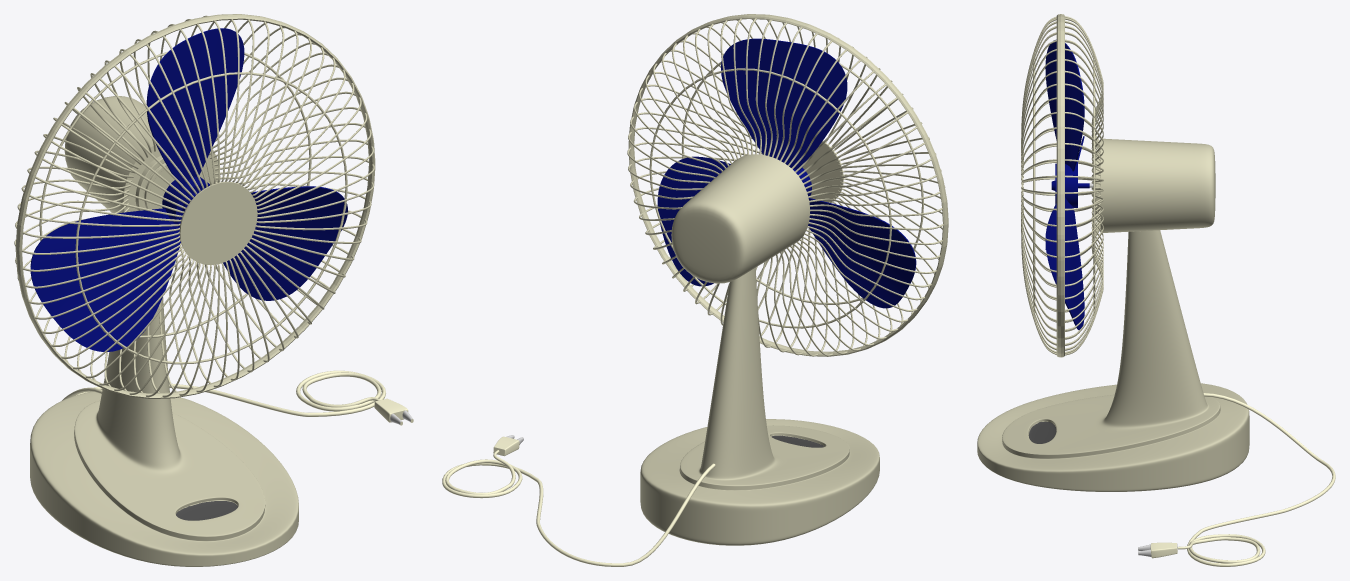
Rendered from table_fan.glb.
3 views of the same model, side by side, from view 1: azimuth 30°, elevation 25°; view 2: azimuth 150°, elevation 25°; view 3: azimuth 270°, elevation 25° (orthographic). The views are drawn at different scales.
Visible parts, largest first — view 1: Base, Blade 2, Blade 1, Blade 3, Rim, Motor, Front Cover, Wire, Front Support, Back Support, Back Cover, Base.001 (+2 smaller); view 2: Base, Motor, Blade 1, Blade 2, Rim, Blade 3, Wire, Back Support, Front Cover, Front Support; view 3: Base, Motor, Rim, Wire, Blade 1, Blade 3, Blade Support_Blades_0, Front Support, Back Support, Base.001.
Boxes of the visible parts, left/top/right/bottom form: Base: left=30, top=297, right=298, bottom=566; Blade 2: left=30, top=208, right=180, bottom=351; Blade 1: left=146, top=28, right=244, bottom=188; Blade 3: left=223, top=186, right=347, bottom=300; Rim: left=15, top=14, right=375, bottom=398; Motor: left=64, top=96, right=220, bottom=213; Front Cover: left=179, top=181, right=257, bottom=265; Wire: left=62, top=370, right=385, bottom=416; Front Support: left=75, top=72, right=347, bottom=364; Back Support: left=39, top=52, right=311, bottom=337; Back Cover: left=135, top=155, right=209, bottom=210; Base.001: left=176, top=501, right=237, bottom=520; Base: left=640, top=268, right=879, bottom=545; Motor: left=671, top=154, right=810, bottom=283; Blade 1: left=721, top=38, right=847, bottom=170; Blade 2: left=808, top=198, right=916, bottom=308; Rim: left=628, top=14, right=948, bottom=356; Blade 3: left=657, top=156, right=730, bottom=286; Wire: left=442, top=450, right=715, bottom=566; Back Support: left=649, top=68, right=891, bottom=328; Front Cover: left=802, top=140, right=843, bottom=202; Front Support: left=681, top=61, right=923, bottom=304; Base: left=977, top=230, right=1249, bottom=491; Motor: left=1100, top=138, right=1215, bottom=232; Rim: left=1056, top=14, right=1064, bottom=357; Wire: left=1178, top=393, right=1335, bottom=566; Blade 1: left=1045, top=39, right=1084, bottom=171; Blade 3: left=1045, top=197, right=1084, bottom=329; Blade Support_Blades_0: left=1051, top=163, right=1089, bottom=207; Front Support: left=1033, top=55, right=1035, bottom=315; Back Support: left=1093, top=56, right=1095, bottom=315; Base.001: left=1028, top=421, right=1056, bottom=443.
Size of the model in its own units: 378 by 396 by 305.
